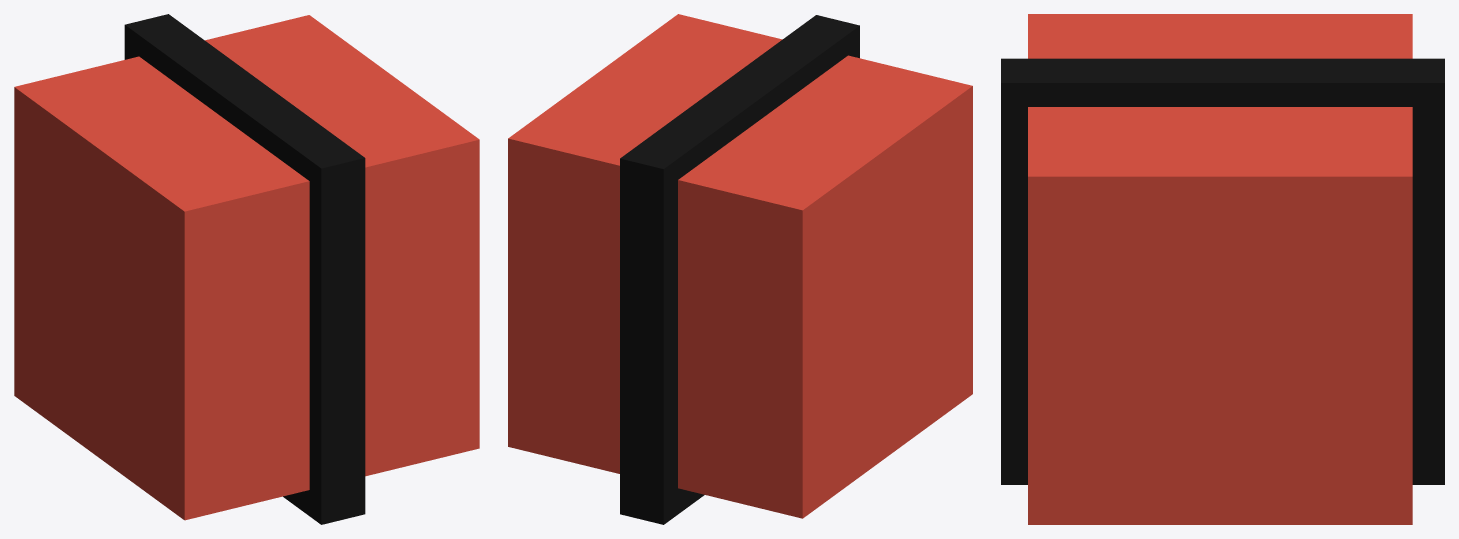
Rendered from CubeXP.glb.
3 renders of one model, left to right at view 1: azimuth 30°, elevation 25°; view 2: azimuth 150°, elevation 25°; view 3: azimuth 270°, elevation 25°, orthographic. The views are drawn at different scales.
Visible parts, largest first — view 1: Cube, Cube.001; view 2: Cube, Cube.001; view 3: Cube, Cube.001.
Boxes of the visible parts, x1,y1,x2,y2 form: Cube: (14, 15, 479, 520); Cube.001: (124, 14, 365, 524); Cube: (508, 14, 972, 518); Cube.001: (620, 15, 859, 524); Cube: (1028, 14, 1412, 524); Cube.001: (1001, 58, 1444, 484).
Size of the model in its own units: 0.4391 by 0.5066 by 0.5066.
